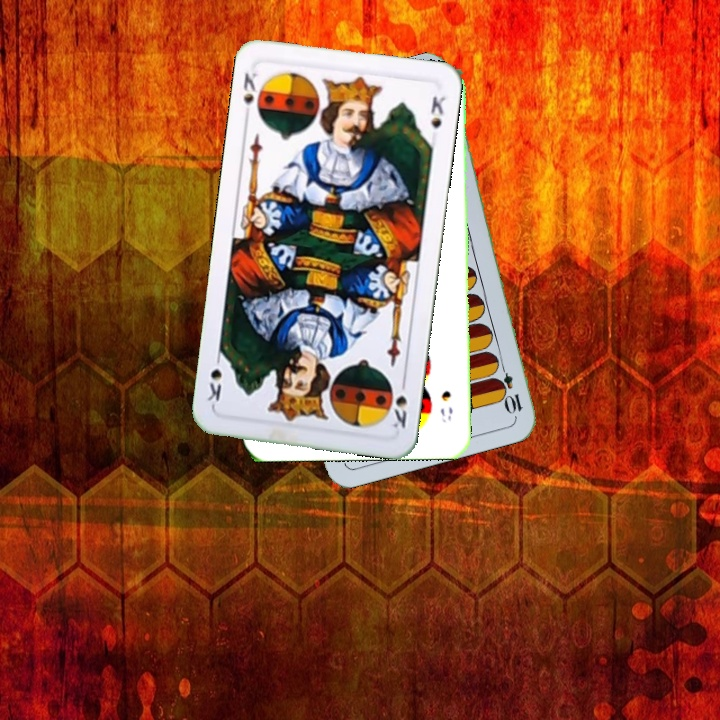E10: (494, 358, 525, 416)
S8: (436, 387, 455, 426)
SK: (387, 374, 410, 431), (239, 68, 261, 107)
